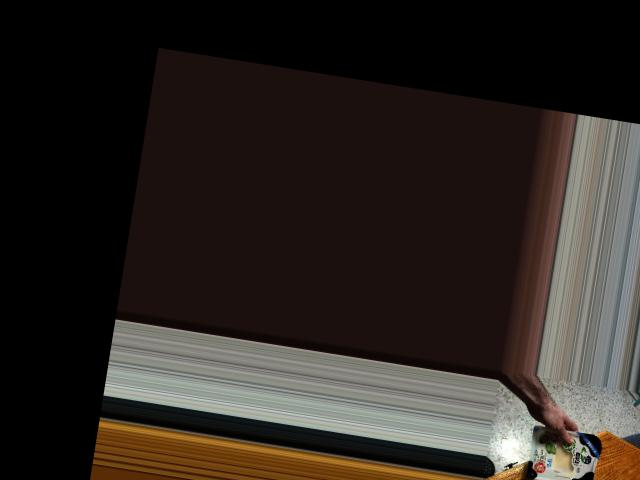cheese: (521, 420, 604, 480)
